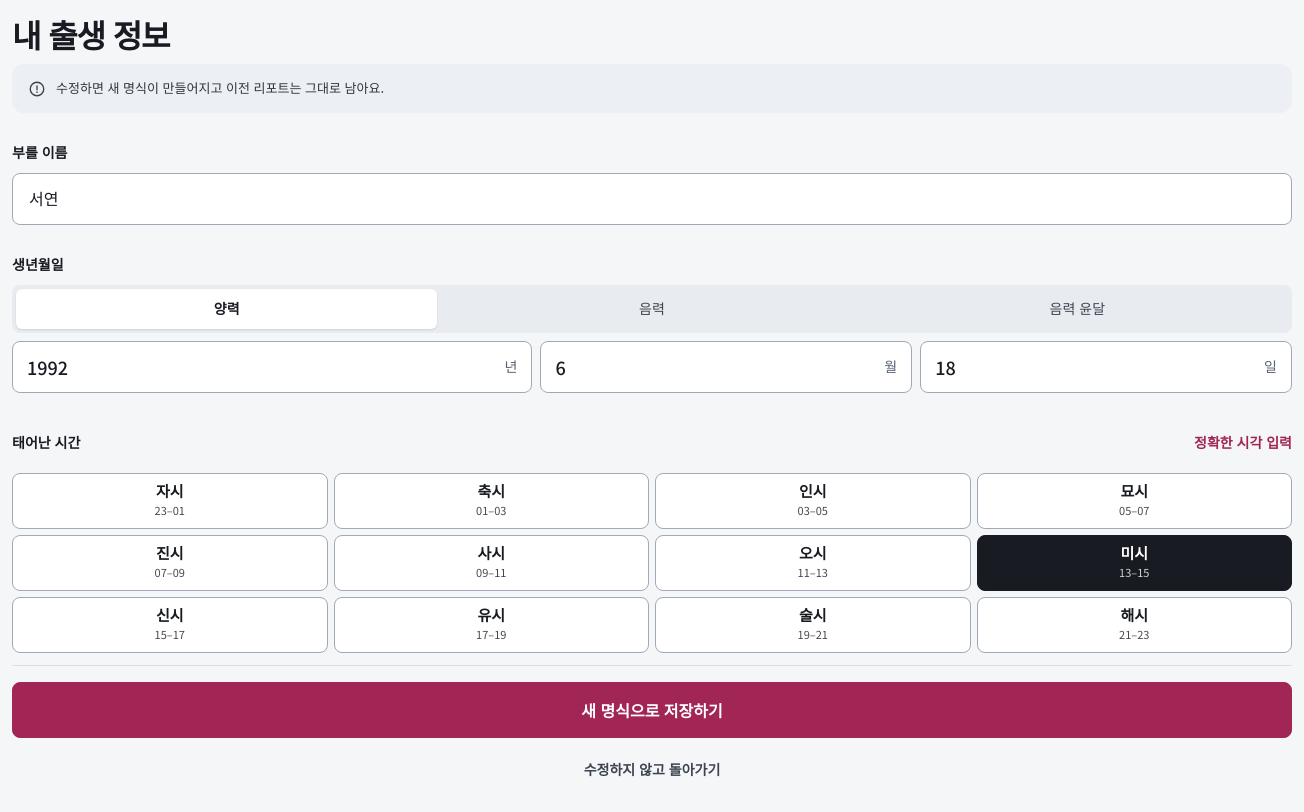
Test case: birth information edit › validates before sending and keeps the input when saving fails
Expected: the heading "내 출생 정보" is shown, [12,11,169,57]
Replace the text in the field named "태어난 달" with "13" at (718, 366), box [556,342,880,392]
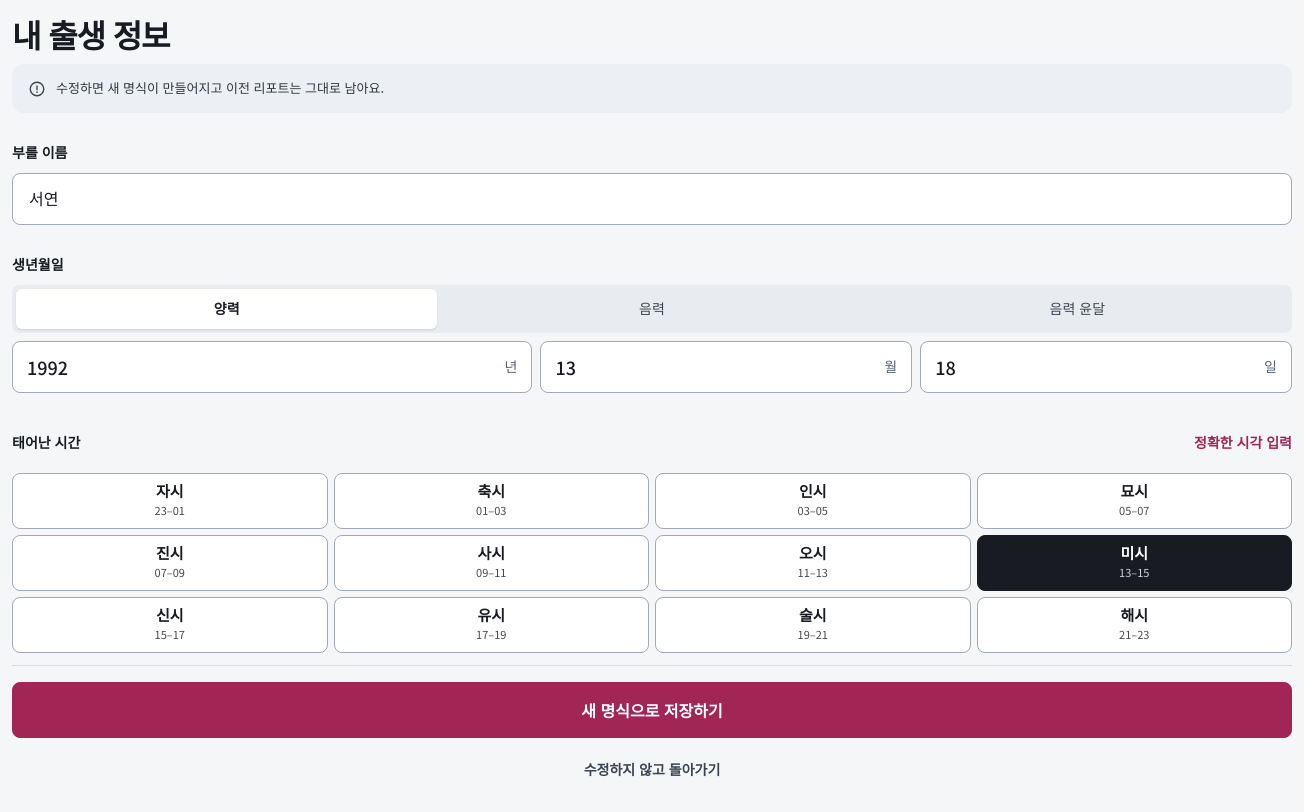
Click the button "새 명식으로 저장하기" at (652, 710), box [12,682,1292,738]
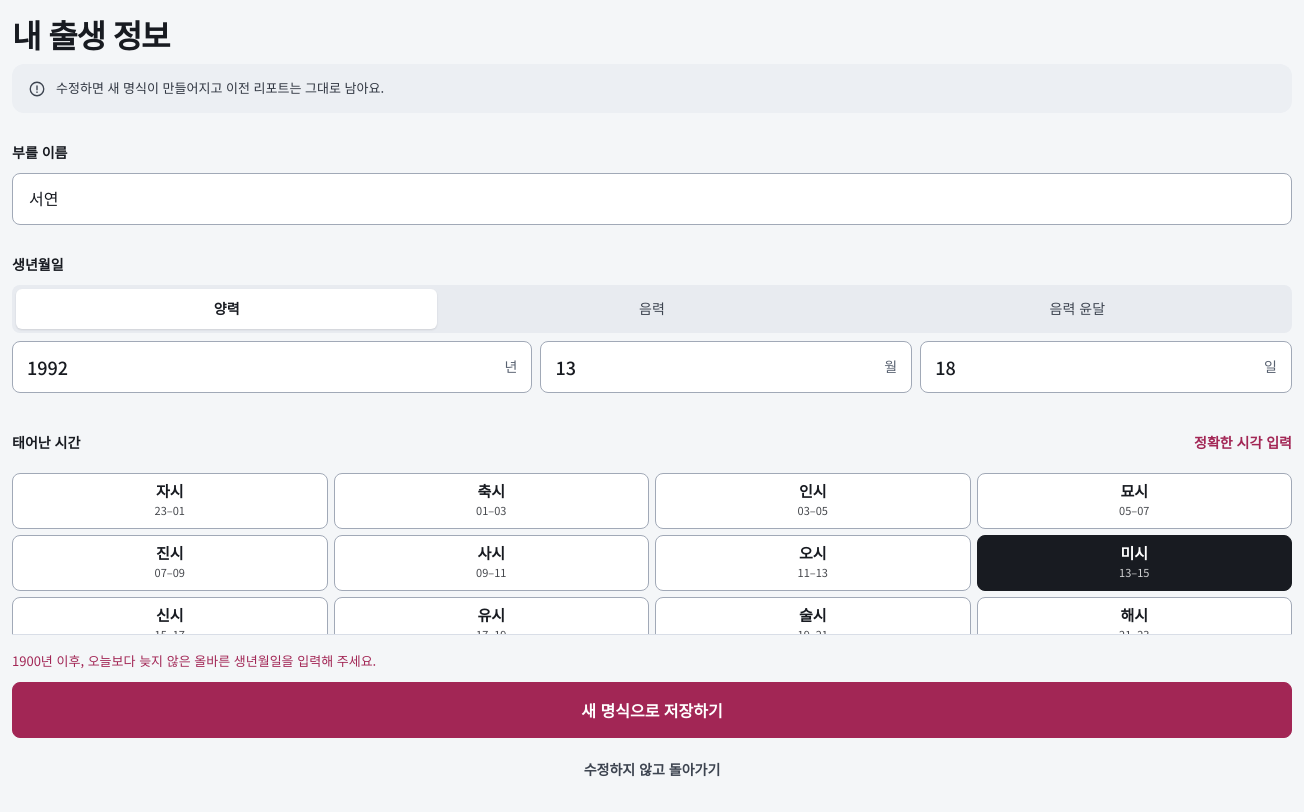
Now the message shows "올바른 생년월일", box [12,651,376,670]
Replace the text in the field named "태어난 달" with "6" at (718, 366), box [556,342,880,392]
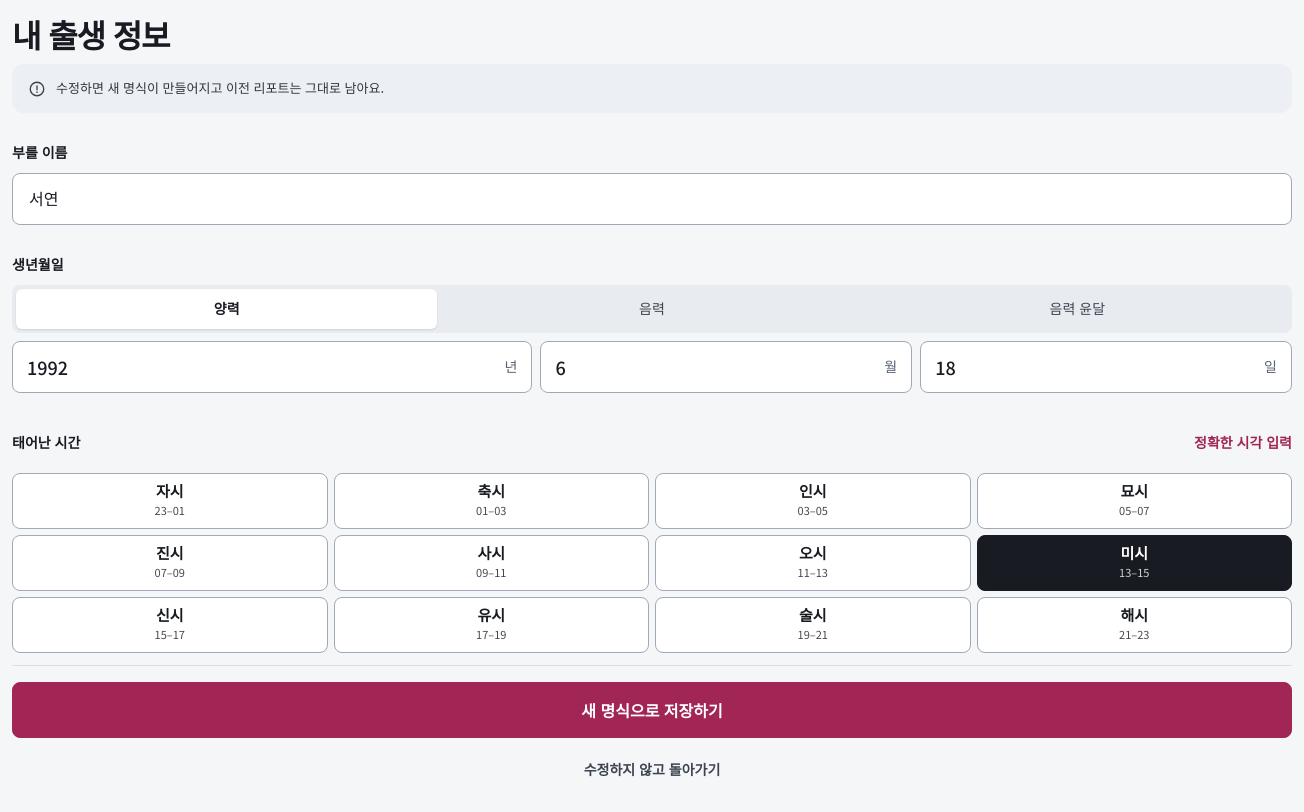
Click the button "음력 윤달" at (1077, 308), box [867,288,1288,328]
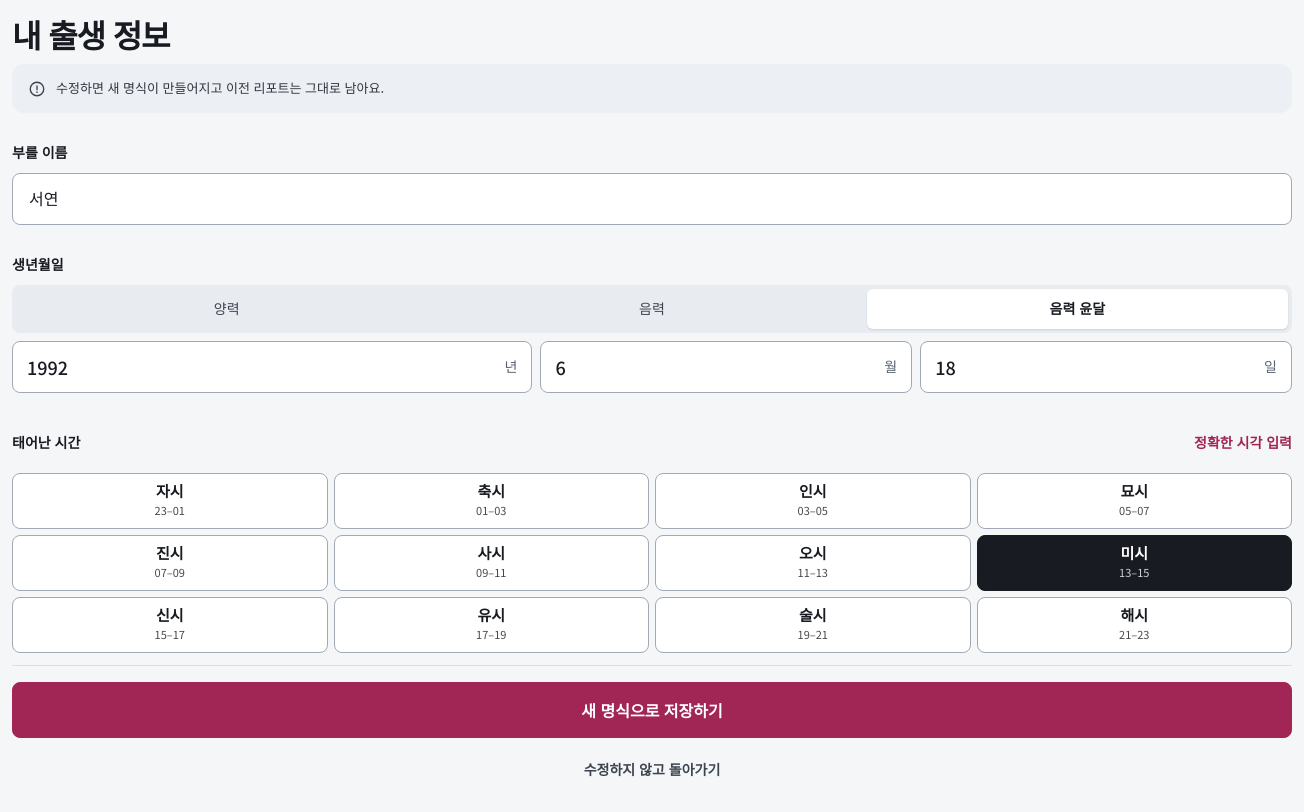
Click the button "새 명식으로 저장하기" at (652, 710), box [12,682,1292,738]
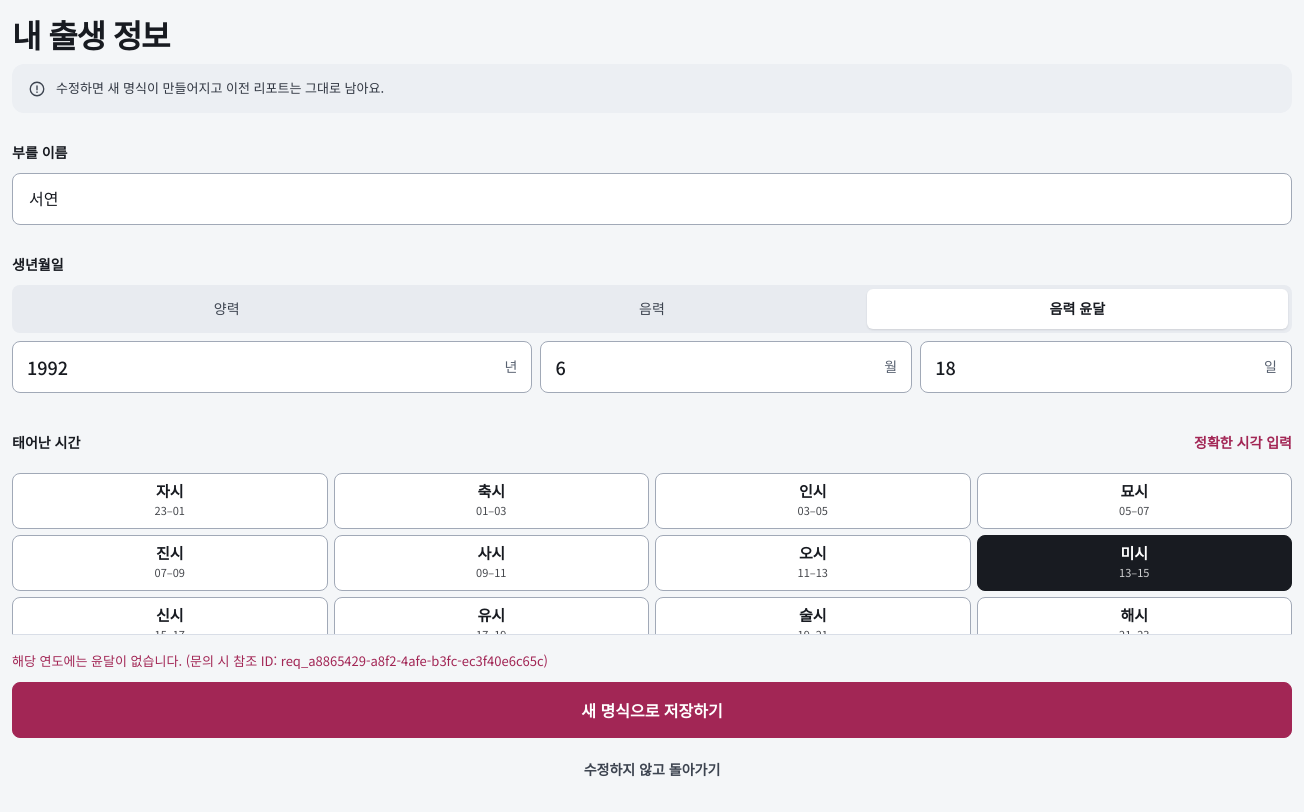
Now the message shows "해당 연도에는 윤달이 없습니다.", box [12,651,548,670]
